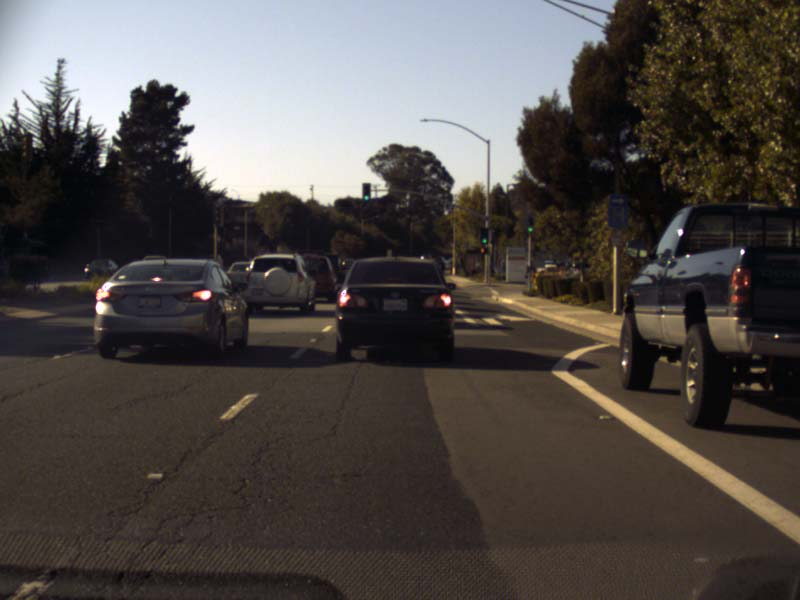Green: (362, 182, 370, 201), (526, 216, 533, 233), (480, 228, 487, 243)
